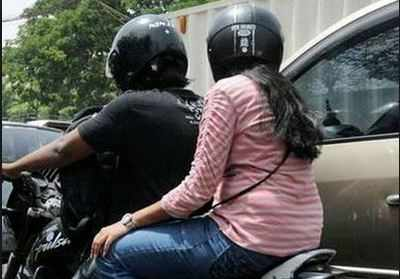with_helmet: (0, 5, 329, 279)
